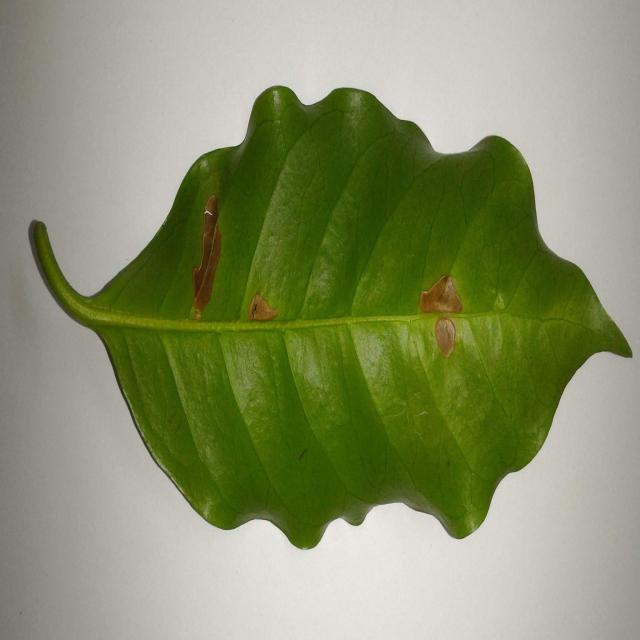Plaga-Minador: (26, 86, 633, 552)
